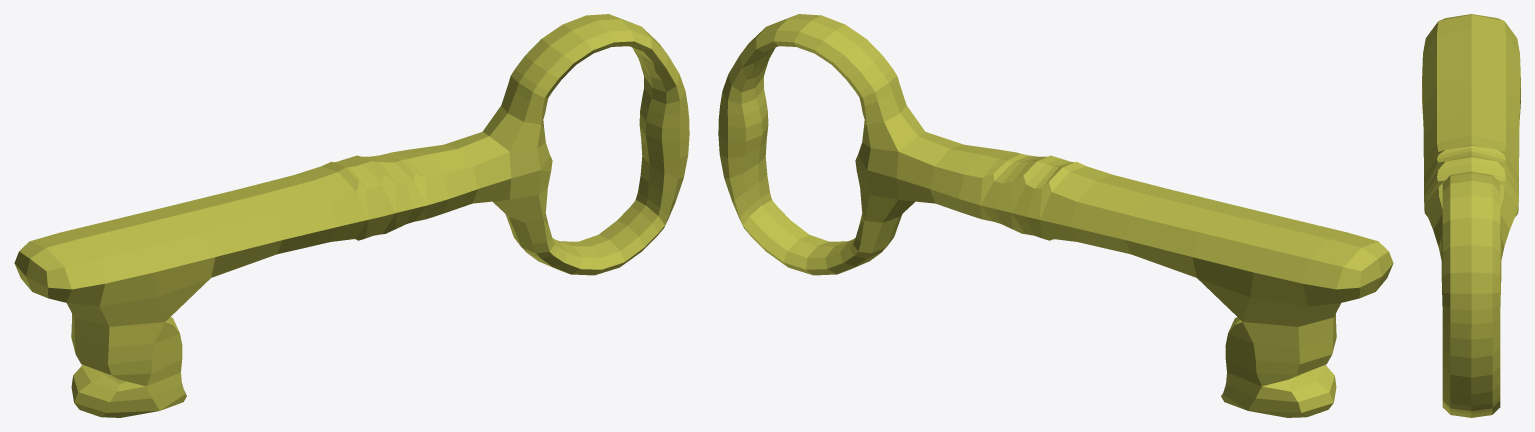
File: small_key.fbx
3 renders of one model, left to right at view 1: azimuth 30°, elevation 25°; view 2: azimuth 150°, elevation 25°; view 3: azimuth 270°, elevation 25°, orthographic. The views are drawn at different scales.
Parts seen in each view (by area): view 1: Cube; view 2: Cube; view 3: Cube.
Part boxes in pixels (x1,y1,x2,y2): Cube: (14, 14, 689, 417); Cube: (718, 14, 1393, 417); Cube: (1422, 14, 1520, 417).
Bounding box in the file's own units: 1.4 × 0.1929 × 0.5431.
